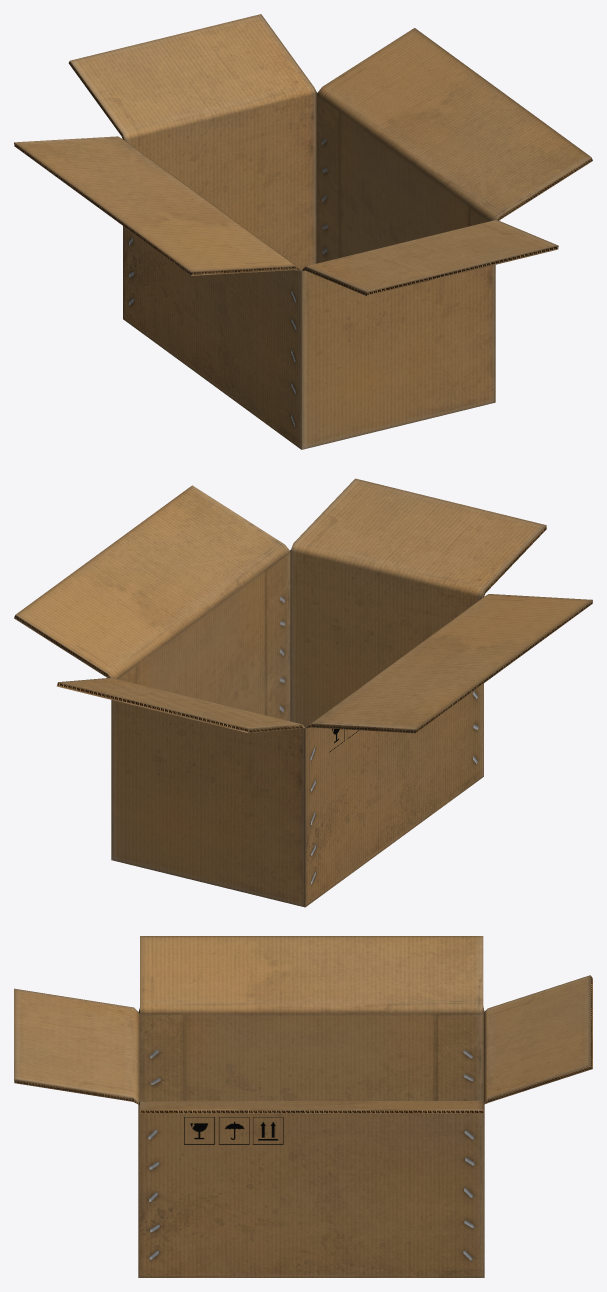
The model's file is ms_paper_box_open.fbx.
3 views of the same model, one above another, from view 1: azimuth 30°, elevation 25°; view 2: azimuth 150°, elevation 25°; view 3: azimuth 270°, elevation 25° (orthographic). The views are drawn at different scales.
Visible parts, largest first — view 1: ms_paper_box_open; view 2: ms_paper_box_open; view 3: ms_paper_box_open.
Boxes of the visible parts, x1,y1,x2,y2 form: ms_paper_box_open: (14, 14, 592, 449); ms_paper_box_open: (14, 478, 592, 907); ms_paper_box_open: (14, 936, 592, 1277).
Size of the model in its own units: 54.3 by 28.55 by 69.86.
